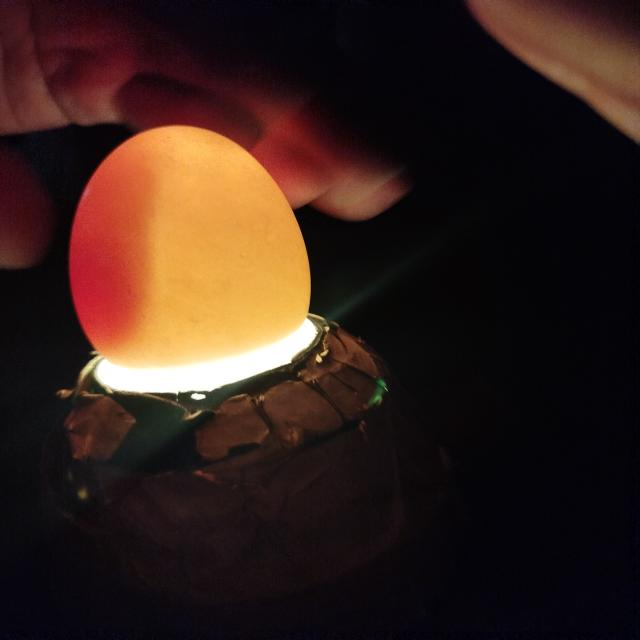Gema Quebrada: (66, 142, 155, 341)
